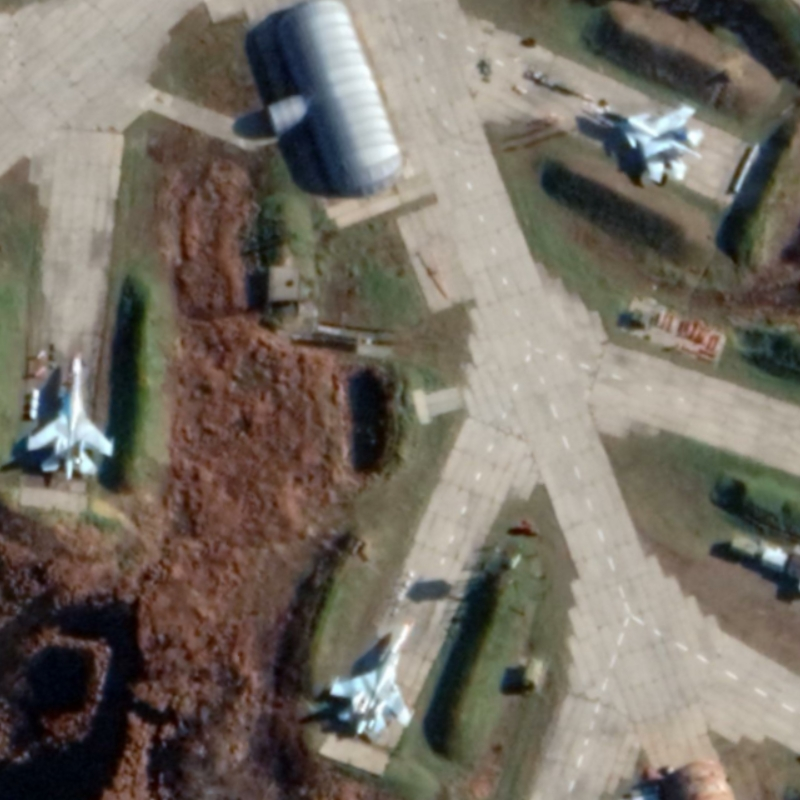A1: (24, 355, 116, 482), (327, 622, 416, 738)
A19: (590, 100, 705, 184)
